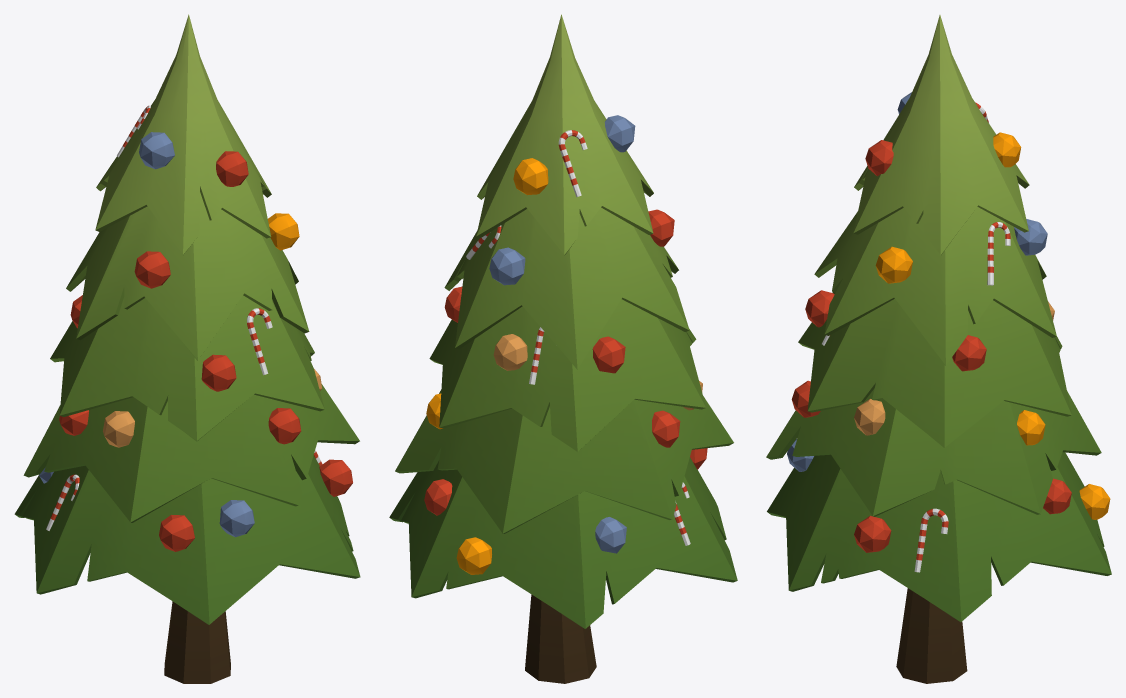
Rendered from ChristmasTree_01.glb.
3 views of the same model, side by side, from view 1: azimuth 30°, elevation 25°; view 2: azimuth 150°, elevation 25°; view 3: azimuth 270°, elevation 25° (orthographic).
Parts seen in each view (by area): view 1: ChristmasTree_01; view 2: ChristmasTree_01; view 3: ChristmasTree_01.
Boxes of the visible parts, x1,y1,x2,y2 form: ChristmasTree_01: [14, 14, 360, 683]; ChristmasTree_01: [389, 14, 737, 683]; ChristmasTree_01: [766, 15, 1111, 683].
Bounding box in the file's own units: 1.45 × 2.79 × 1.34.
1 material, 1 textured.
